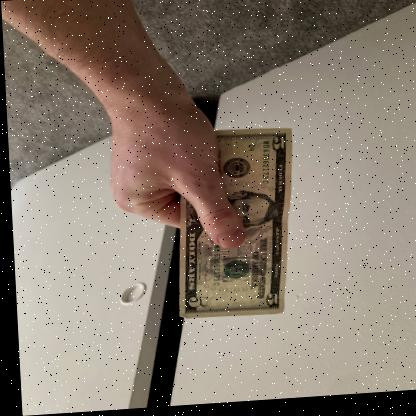five-front: (170, 127, 297, 320)
